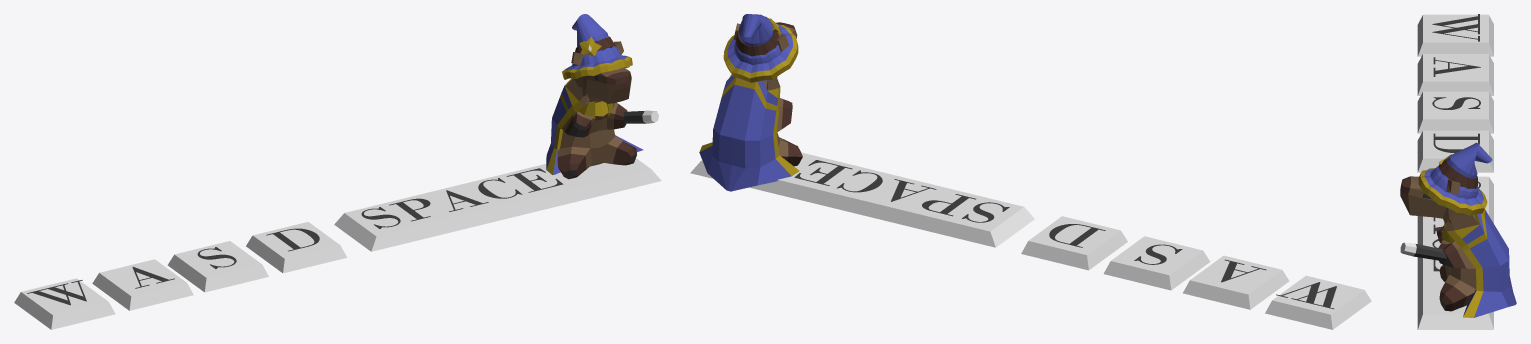
The model's file is capy body, wand, keys assets.fbx.
The picture shows the model from 3 angles, left to right: view 1: azimuth 30°, elevation 25°; view 2: azimuth 150°, elevation 25°; view 3: azimuth 270°, elevation 25°; orthographic projection. The views are drawn at different scales.
Parts seen in each view (by area): view 1: Cube, Plane, Cube.002, Cube.003, Cube.001, Cube.004, Text, Text.004; view 2: Plane, Cube, Cube.003, Cube.002, Cube.001, Cube.004, Text, Text.004; view 3: Plane, Cube, Cube.002, Cube.003, Cube.004, Cube.001, Text.004, Text.001, Text.003, Text.002, Text.
Boxes of the visible parts, x1,y1,x2,y2 form: Cube: [334, 158, 661, 251]; Plane: [546, 14, 658, 179]; Cube.002: [167, 241, 268, 292]; Cube.003: [92, 259, 193, 310]; Cube.001: [246, 222, 346, 273]; Cube.004: [14, 278, 115, 329]; Text: [361, 168, 563, 228]; Text.004: [27, 280, 86, 305]; Plane: [699, 14, 802, 191]; Cube: [690, 152, 1034, 247]; Cube.003: [1183, 255, 1289, 309]; Cube.002: [1103, 236, 1210, 290]; Cube.001: [1021, 216, 1127, 270]; Cube.004: [1265, 275, 1371, 329]; Text: [794, 160, 1009, 222]; Text.004: [1276, 282, 1336, 309]; Plane: [1400, 142, 1516, 317]; Cube: [1417, 176, 1493, 329]; Cube.002: [1417, 91, 1493, 133]; Cube.003: [1417, 54, 1493, 95]; Cube.004: [1417, 14, 1493, 56]; Cube.001: [1417, 130, 1493, 172]; Text.004: [1432, 14, 1479, 41]; Text.001: [1433, 133, 1479, 153]; Text.003: [1433, 57, 1480, 76]; Text.002: [1432, 97, 1480, 109]; Text: [1432, 181, 1480, 271].
Bounding box in the file's own units: 1906 × 467 × 306.
